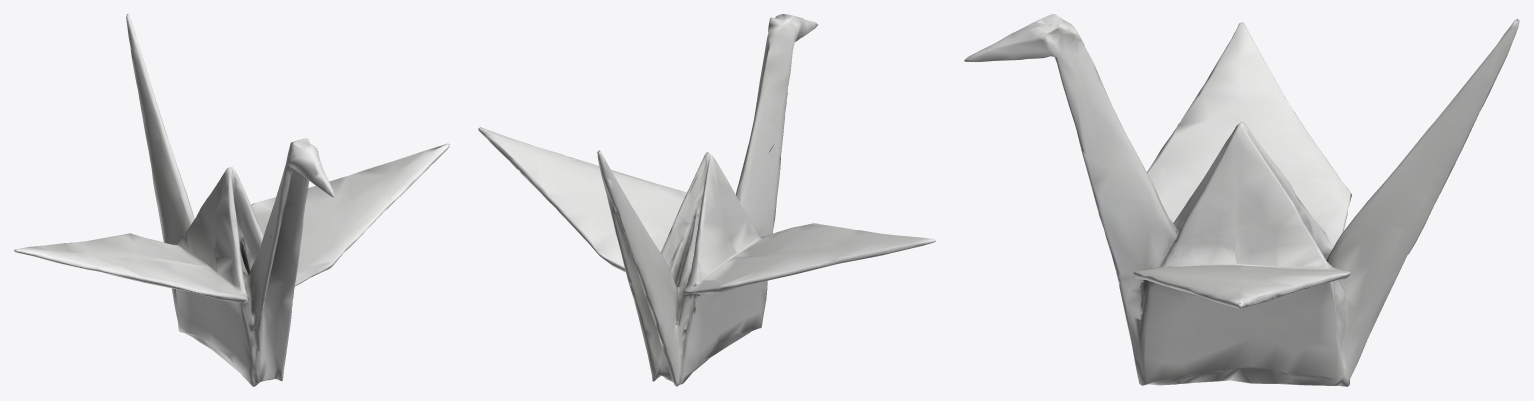
Rendered from foldit.glb.
The picture shows the model from 3 angles, left to right: view 1: azimuth 30°, elevation 25°; view 2: azimuth 150°, elevation 25°; view 3: azimuth 270°, elevation 25°; orthographic projection. The views are drawn at different scales.
Bounding box in the file's own units: 2 × 1.18 × 1.65.
Materials: 1 (1 with a texture image).
